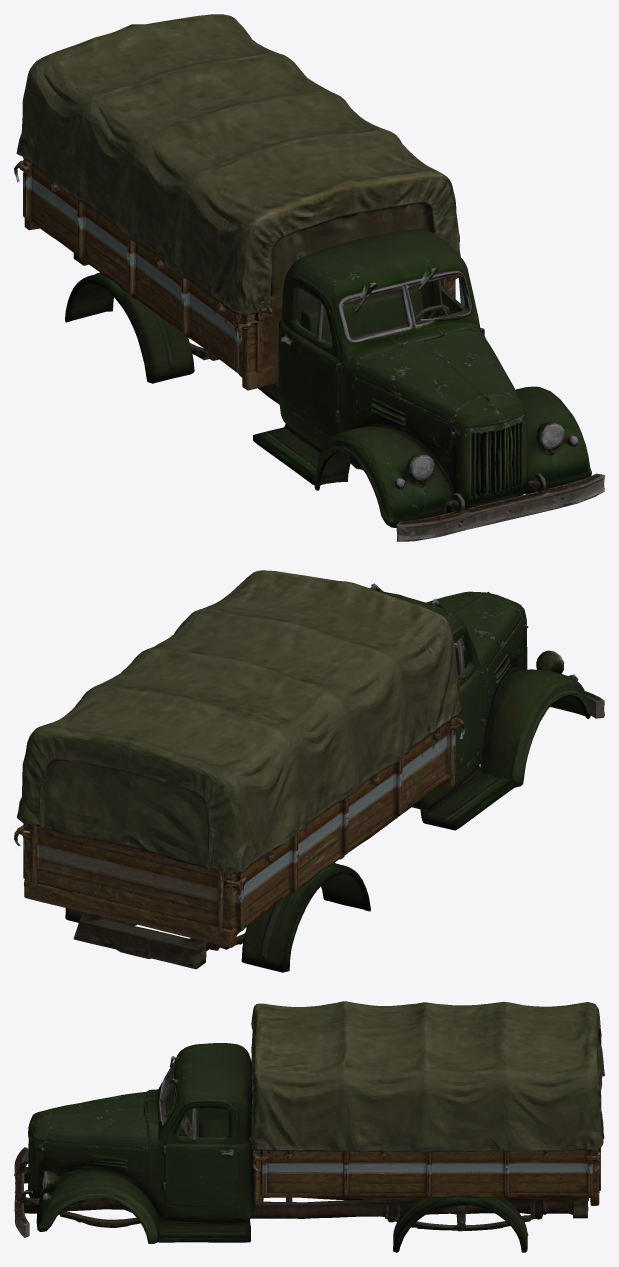
The model's file is zis150_tripo.glb.
The picture shows the model from 3 angles, top to bottom: view 1: azimuth 30°, elevation 25°; view 2: azimuth 150°, elevation 25°; view 3: azimuth 270°, elevation 25°; orthographic projection. The views are drawn at different scales.
Visible parts, largest first — view 1: geometry_0; view 2: geometry_0; view 3: geometry_0.
Boxes of the visible parts, box(x1,y1,x2,y2) form: geometry_0: box(14, 14, 604, 541); geometry_0: box(14, 570, 604, 972); geometry_0: box(14, 1001, 604, 1252).
Size of the model in its own units: 0.3495 by 0.3445 by 1.
Materials: 1 (1 with a texture image).
